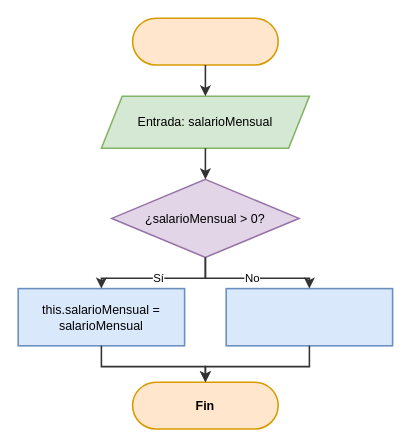
This 412x448 diagram has some shape labels left out. Here are the shapes that lost their labels. From the top down, the box of each, then its label:
(131, 17, 279, 65): Inicio
(225, 287, 393, 346): Ignorar asignación (mantiene valor anterior)
